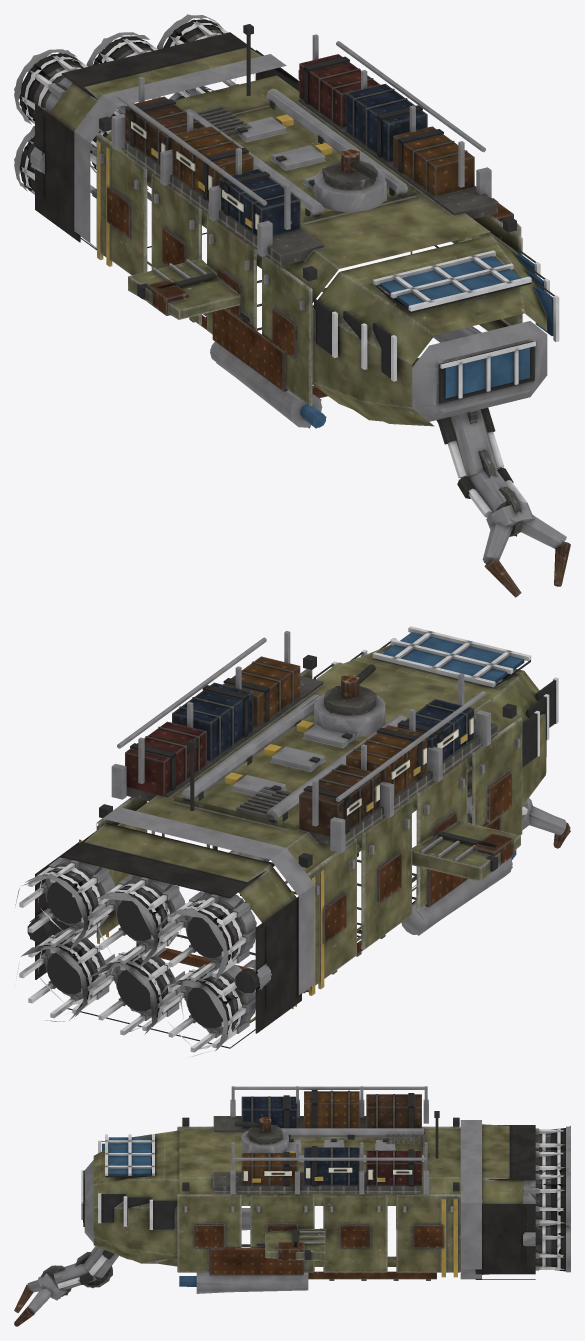
Rendered from sd_ship_yuk.glb.
The picture shows the model from 3 angles, top to bottom: view 1: azimuth 30°, elevation 25°; view 2: azimuth 150°, elevation 25°; view 3: azimuth 270°, elevation 25°; orthographic projection. The views are drawn at different scales.
Parts seen in each view (by area): view 1: LOD0_body, LOD1_body; view 2: LOD0_body, LOD1_body; view 3: LOD0_body, LOD1_body.
Boxes of the visible parts, x1,y1,x2,y2 form: LOD0_body: (14, 15, 570, 597); LOD1_body: (14, 14, 565, 592); LOD0_body: (19, 626, 570, 1052); LOD1_body: (15, 645, 570, 1056); LOD0_body: (14, 1086, 570, 1326); LOD1_body: (14, 1089, 570, 1322).
Size of the model in its own units: 0.4888 by 0.4297 by 1.
1 material, 1 textured.
